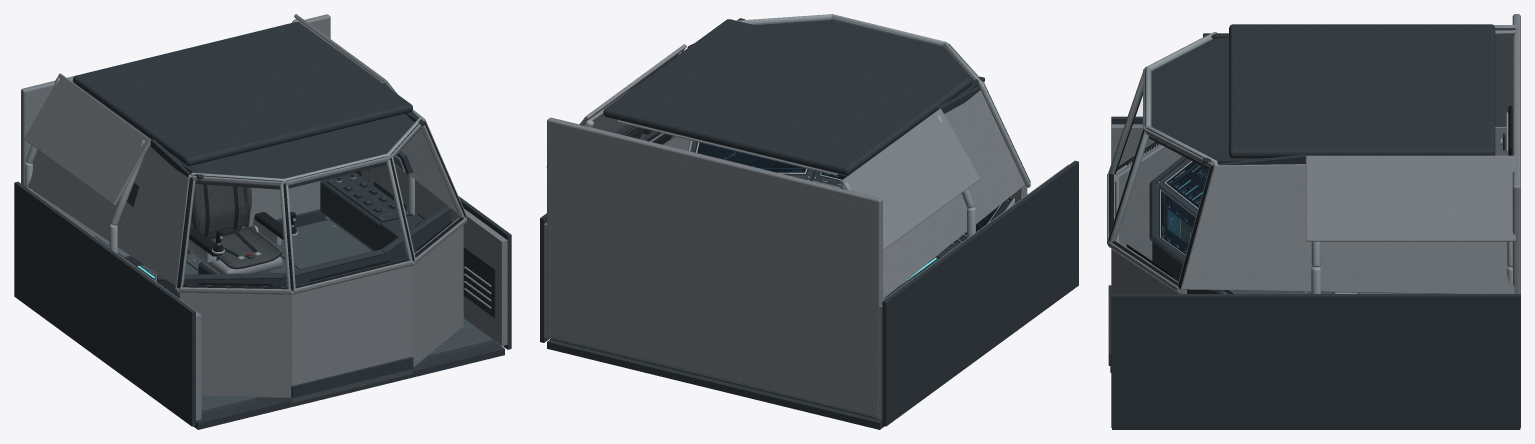
The model's file is cockpit.glb.
3 renders of one model, left to right at view 1: azimuth 30°, elevation 25°; view 2: azimuth 150°, elevation 25°; view 3: azimuth 270°, elevation 25°, orthographic. The views are drawn at different scales.
Parts seen in each view (by area): view 1: Overhead central housing, Sidewall continuous pressure backing, Forward lower pressure shell.001, Forward lower pressure shell, Side viewport pressure surround, Angled ceiling liner, Overhead tapered header, Forward lower pressure shell.002, Rear pressure bulkhead, Sidewall equipment liner.004, Floor continuous backing, Sealed floor tile.015 (+29 smaller); view 2: Rear pressure bulkhead, Overhead central housing, Sidewall continuous pressure backing, Angled ceiling liner, Side viewport pressure surround, Overhead tapered header, Floor continuous backing, Integrated flight glass.002, Rear fitted floor infill, Angled ceiling liner.001, Ceiling removable liner.002, Sidewall continuous pressure backing.001 (+3 smaller); view 3: Sidewall continuous pressure backing.001, Overhead central housing, Side viewport pressure surround.001, Angled ceiling liner.001, Overhead tapered header, Forward lower pressure shell, Rear pressure bulkhead, Forward lower pressure shell.002, Side viewport pressure surround, Integrated flight glass.001, Integrated flight glass, Integrated console rear enclosure.002 (+9 smaller).
Part boxes in pixels (x1=…): Overhead central housing: x1=73, y1=22, x2=412, y2=166; Sidewall continuous pressure backing: x1=14, y1=181, x2=195, y2=426; Forward lower pressure shell.001: x1=291, y1=266, x2=411, y2=402; Forward lower pressure shell: x1=179, y1=293, x2=291, y2=397; Side viewport pressure surround: x1=27, y1=145, x2=187, y2=285; Angled ceiling liner: x1=23, y1=73, x2=150, y2=205; Overhead tapered header: x1=150, y1=83, x2=420, y2=189; Forward lower pressure shell.002: x1=411, y1=218, x2=463, y2=366; Rear pressure bulkhead: x1=21, y1=14, x2=330, y2=256; Sidewall equipment liner.004: x1=457, y1=208, x2=507, y2=345; Floor continuous backing: x1=193, y1=342, x2=504, y2=429; Sealed floor tile.015: x1=267, y1=223, x2=371, y2=269; Rear pressure bulkhead: x1=547, y1=117, x2=882, y2=416; Overhead central housing: x1=603, y1=19, x2=971, y2=175; Sidewall continuous pressure backing: x1=882, y1=160, x2=1078, y2=426; Angled ceiling liner: x1=840, y1=108, x2=980, y2=250; Side viewport pressure surround: x1=839, y1=90, x2=1025, y2=298; Overhead tapered header: x1=687, y1=20, x2=980, y2=113; Floor continuous backing: x1=547, y1=340, x2=884, y2=429; Integrated flight glass.002: x1=697, y1=142, x2=806, y2=172; Rear fitted floor infill: x1=550, y1=338, x2=882, y2=420; Angled ceiling liner.001: x1=546, y1=44, x2=686, y2=167; Ceiling removable liner.002: x1=617, y1=120, x2=838, y2=175; Sidewall continuous pressure backing.001: x1=540, y1=213, x2=548, y2=342; Sidewall continuous pressure backing.001: x1=1111, y1=294, x2=1520, y2=427; Overhead central housing: x1=1229, y1=24, x2=1495, y2=158; Side viewport pressure surround.001: x1=1181, y1=164, x2=1514, y2=293; Angled ceiling liner.001: x1=1306, y1=155, x2=1515, y2=241; Overhead tapered header: x1=1148, y1=37, x2=1305, y2=169; Forward lower pressure shell: x1=1116, y1=145, x2=1182, y2=263; Rear pressure bulkhead: x1=1512, y1=14, x2=1520, y2=293; Forward lower pressure shell.002: x1=1111, y1=242, x2=1186, y2=293; Side viewport pressure surround: x1=1495, y1=30, x2=1514, y2=126; Integrated flight glass.001: x1=1161, y1=190, x2=1195, y2=254; Integrated flight glass: x1=1166, y1=161, x2=1208, y2=207; Integrated console rear enclosure.002: x1=1152, y1=235, x2=1224, y2=293.
Bounding box in the file's own units: 4.15 × 2.77 × 4.04.
Materials: 20 (10 with a texture image).
